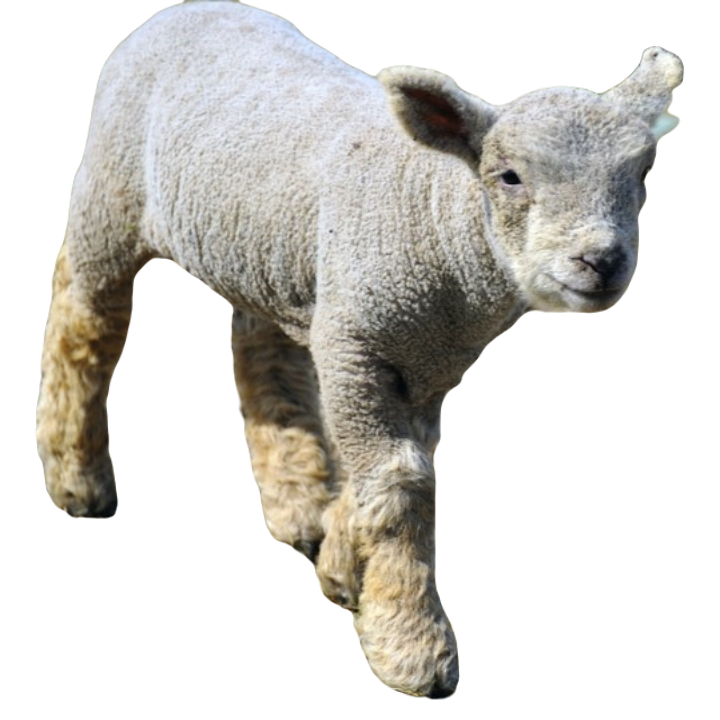Sheep: (28, 0, 693, 705)
